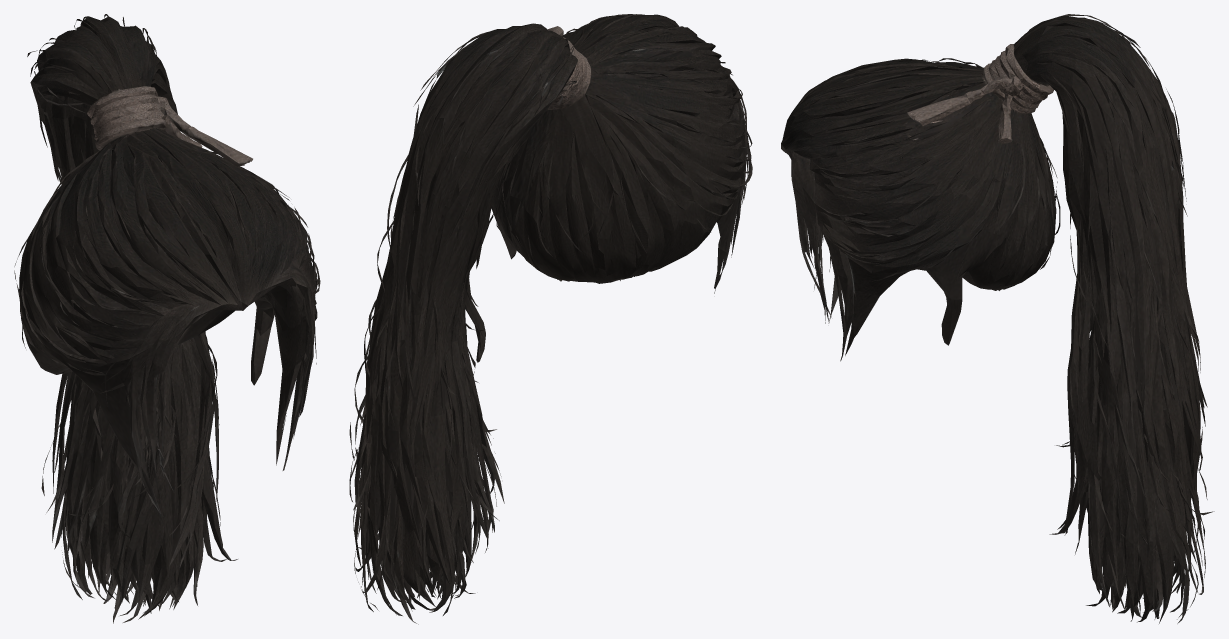
The model's file is acc_hair_ponytail_image.glb.
3 views of the same model, side by side, from view 1: azimuth 30°, elevation 25°; view 2: azimuth 150°, elevation 25°; view 3: azimuth 270°, elevation 25° (orthographic). The views are drawn at different scales.
Bounding box in the file's own units: 0.9533 × 1.9 × 1.31.
1 material, 1 textured.
